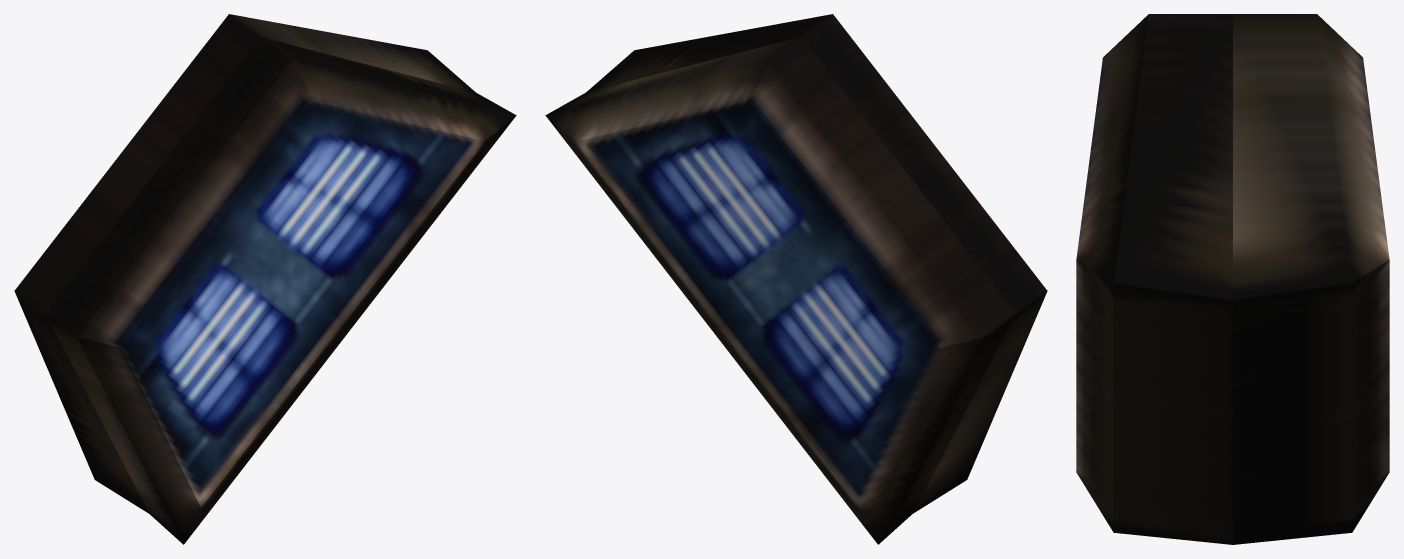
Rendered from datan_common_c9c1dbde.obj.
The picture shows the model from 3 angles, left to right: view 1: azimuth 30°, elevation 25°; view 2: azimuth 150°, elevation 25°; view 3: azimuth 270°, elevation 25°; orthographic projection. The views are drawn at different scales.
Parts seen in each view (by area): view 1: datan_common_c9c1dbde; view 2: datan_common_c9c1dbde; view 3: datan_common_c9c1dbde.
Part boxes in pixels (x1=…): datan_common_c9c1dbde: x1=14, y1=14, x2=516, y2=544; datan_common_c9c1dbde: x1=545, y1=14, x2=1047, y2=544; datan_common_c9c1dbde: x1=1076, y1=14, x2=1389, y2=544.
Bounding box in the file's own units: 8.03 × 8.02 × 3.77.
1 material, 1 textured.
